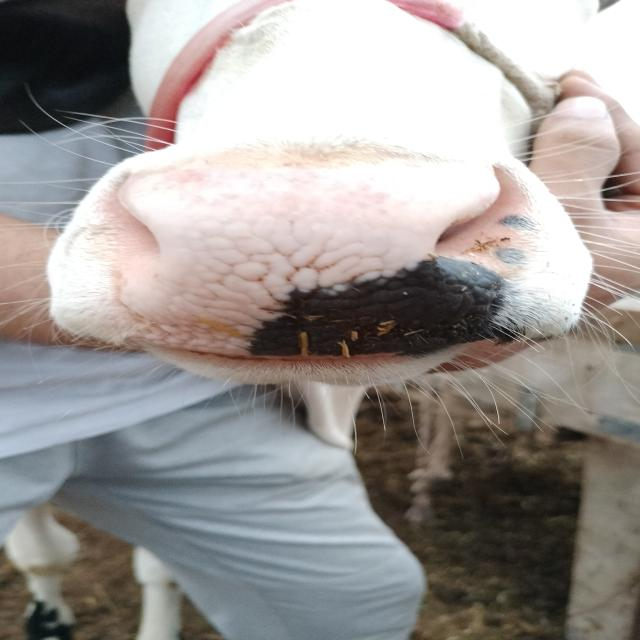muzzles: (90, 147, 568, 361)
